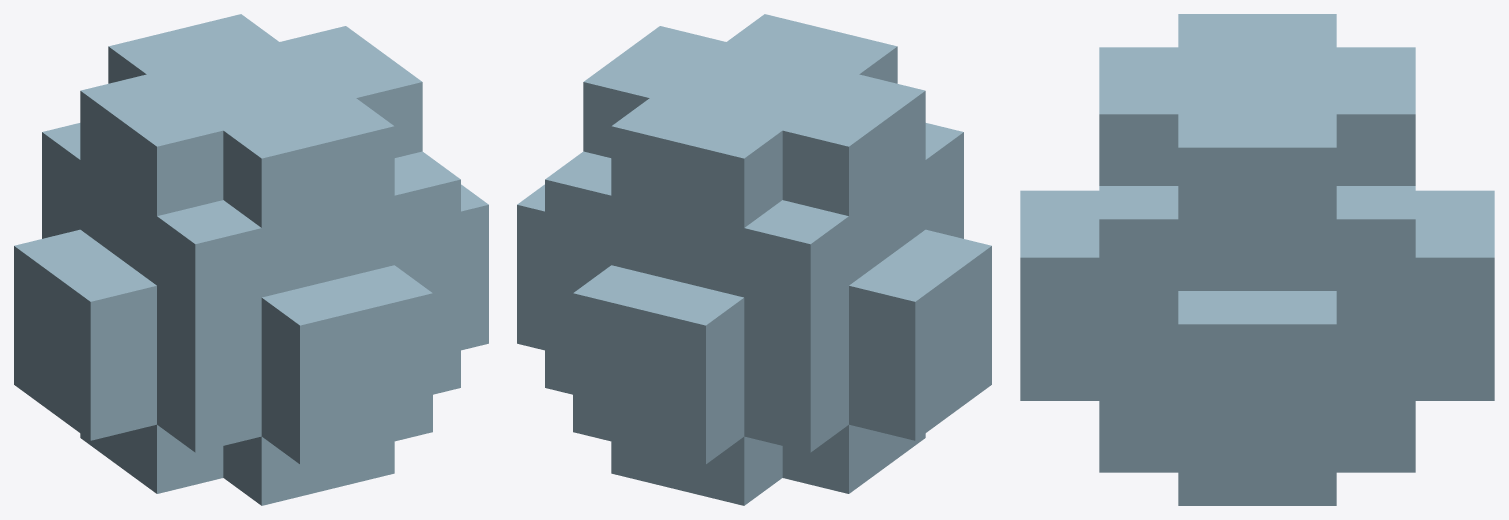
Rendered from mat_frozen_heart_lod1.glb.
3 renders of one model, left to right at view 1: azimuth 30°, elevation 25°; view 2: azimuth 150°, elevation 25°; view 3: azimuth 270°, elevation 25°, orthographic. The views are drawn at different scales.
Visible parts, largest first — view 1: mat_frozen_heart_lod1; view 2: mat_frozen_heart_lod1; view 3: mat_frozen_heart_lod1.
Boxes of the visible parts, <box> form: mat_frozen_heart_lod1: <box>14,14,488,505</box>; mat_frozen_heart_lod1: <box>517,14,991,505</box>; mat_frozen_heart_lod1: <box>1020,14,1494,505</box>.
Size of the model in its own units: 0.144 by 0.12 by 0.144.
